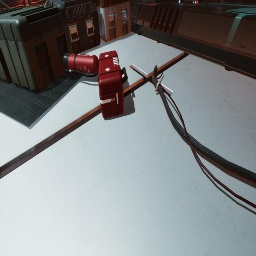FireExtinguisher ]: (63, 53, 99, 77)
FirstAidBox ,: (98, 51, 128, 119)
